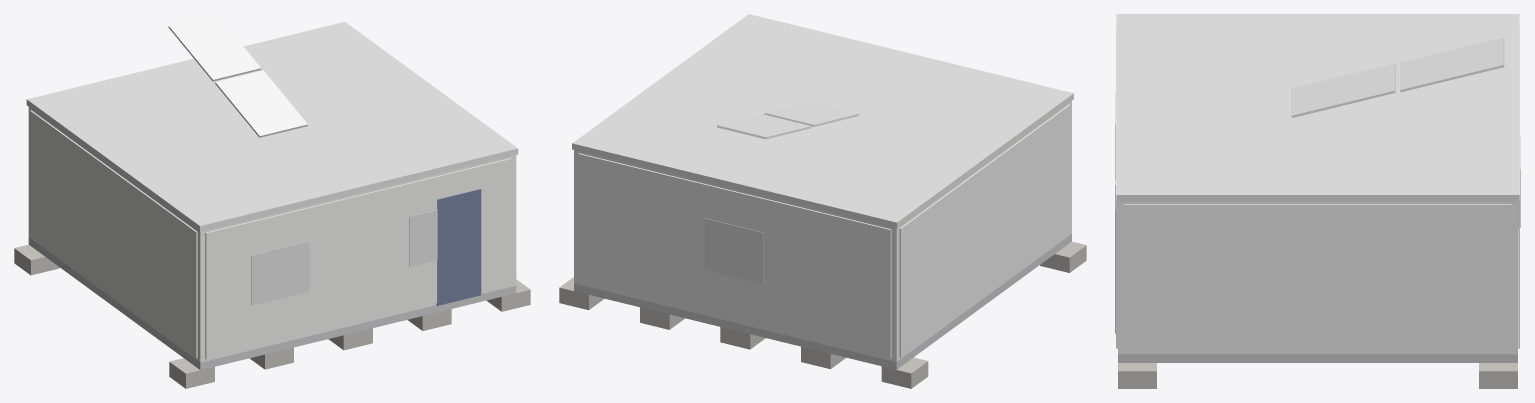
File: Studio-20-FullSolar-LOD2.glb
3 views of the same model, side by side, from view 1: azimuth 30°, elevation 25°; view 2: azimuth 150°, elevation 25°; view 3: azimuth 270°, elevation 25° (orthographic). The views are drawn at different scales.
Parts seen in each view (by area): view 1: RoofMain, ExteriorPanelsStandard, SolarPanelArray, EntryDoor, WindowsStandard, FoundationBlocks, ExteriorShell, BaseFrame; view 2: ExteriorPanelsStandard, RoofMain, FoundationBlocks, ExteriorShell, BaseFrame, WindowsStandard, SolarPanelArray; view 3: RoofMain, ExteriorPanelsStandard, SolarPanelArray, ExteriorShell, BaseFrame, FoundationBlocks.
Boxes of the visible parts, bbox=[...] form: RoofMain: bbox=[26, 22, 518, 231]; ExteriorPanelsStandard: bbox=[30, 110, 512, 359]; SolarPanelArray: bbox=[168, 14, 307, 137]; EntryDoor: bbox=[436, 189, 481, 305]; WindowsStandard: bbox=[251, 209, 437, 305]; FoundationBlocks: bbox=[14, 244, 530, 388]; ExteriorShell: bbox=[28, 107, 516, 362]; BaseFrame: bbox=[28, 237, 516, 370]; ExteriorPanelsStandard: bbox=[578, 104, 1070, 358]; RoofMain: bbox=[572, 14, 1073, 228]; FoundationBlocks: bbox=[559, 241, 1086, 388]; ExteriorShell: bbox=[574, 101, 1071, 361]; BaseFrame: bbox=[574, 234, 1071, 369]; WindowsStandard: bbox=[704, 218, 763, 284]; SolarPanelArray: bbox=[717, 102, 859, 139]; RoofMain: bbox=[1116, 14, 1519, 201]; ExteriorPanelsStandard: bbox=[1116, 27, 1519, 352]; SolarPanelArray: bbox=[1291, 37, 1504, 117]; ExteriorShell: bbox=[1118, 202, 1517, 354]; BaseFrame: bbox=[1118, 354, 1517, 362]; FoundationBlocks: bbox=[1118, 363, 1517, 388].
Size of the model in its own units: 7.14 by 4.07 by 6.24.
